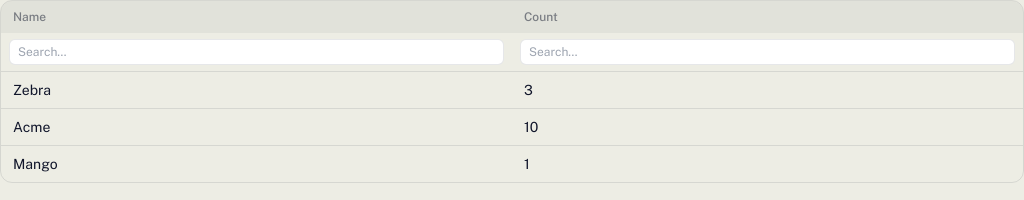
Test case: DataTable › filters rows by a per-column search that only matches that column
The image size is (1024, 200).
Type "an" into the field named "Filter Name" at (256, 52), box [9,39,504,65]
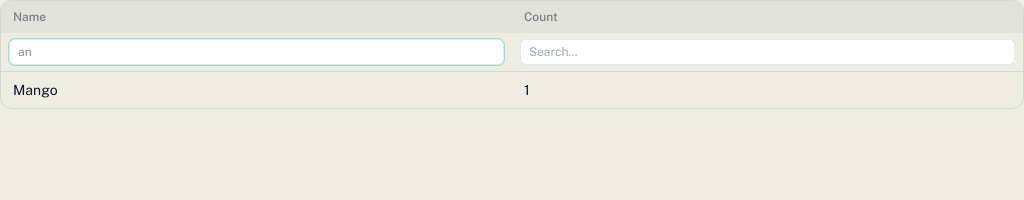
Expected: the text "Mango" is shown, [1,72,512,108]
Result: the text "Zebra" is gone
Result: the text "Acme" is gone
